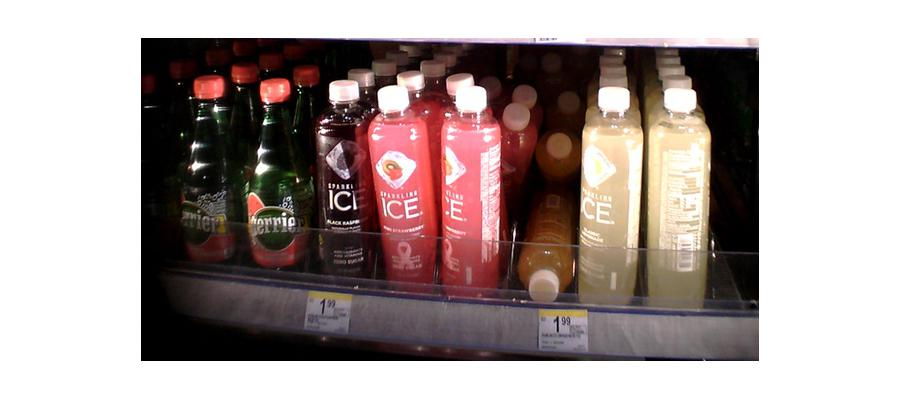bottle: (439, 81, 507, 298), (646, 87, 712, 309), (371, 80, 438, 289), (581, 85, 645, 299), (309, 77, 373, 284), (244, 81, 307, 279), (183, 78, 239, 270), (517, 179, 576, 296)
